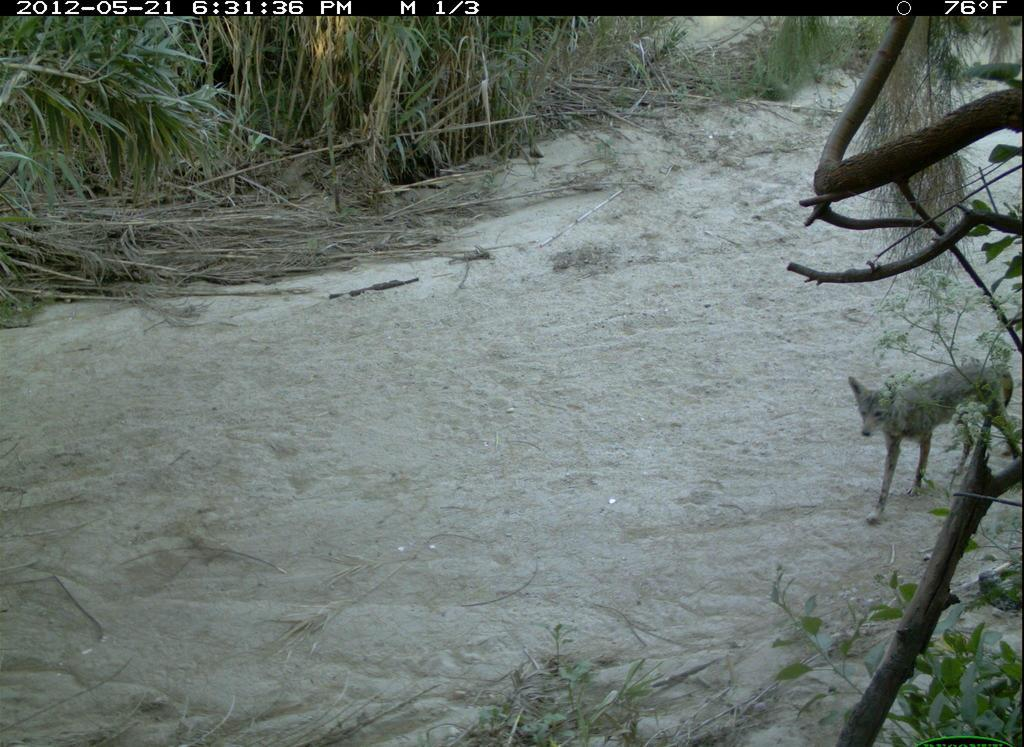coyote: (845, 349, 1021, 538)
